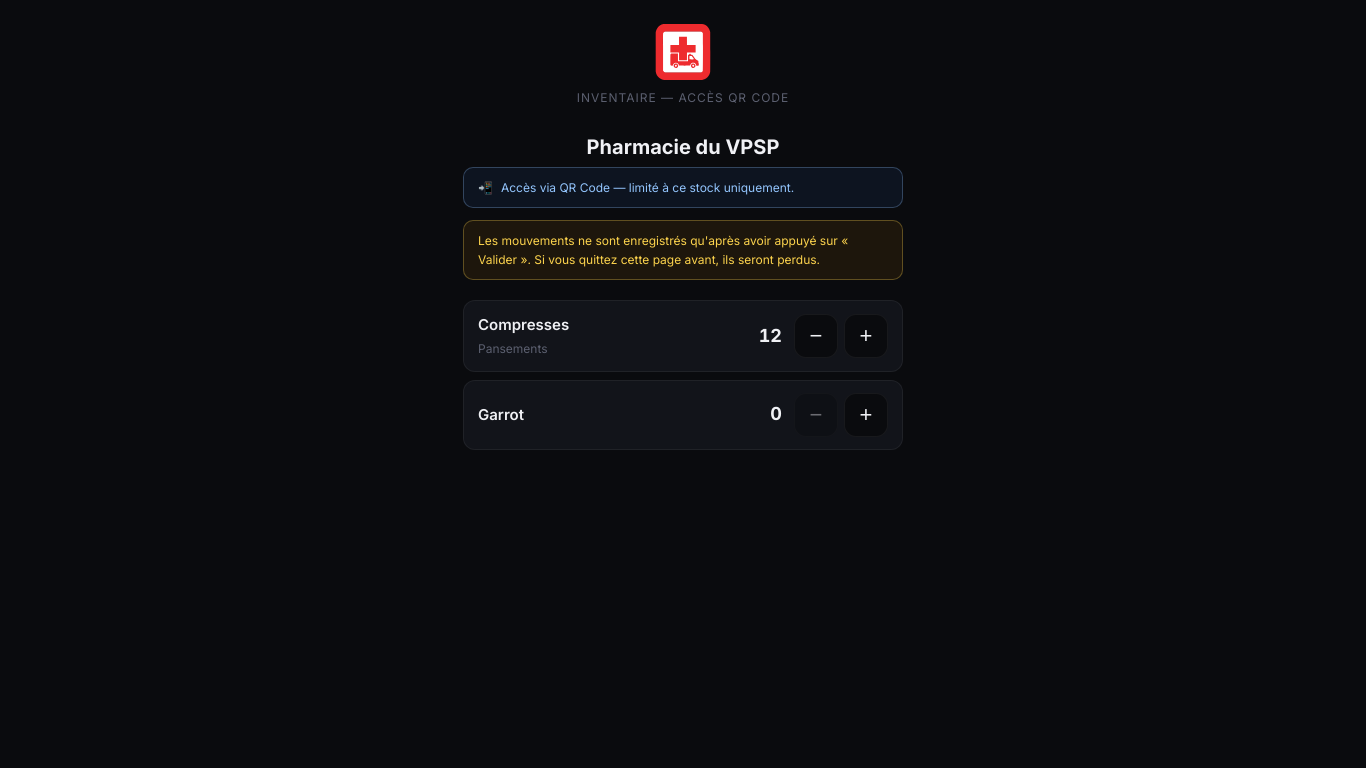
it: QRStockPage › affiche le delta en attente sur la ligne cliquée, et le retire à l'annulation
Expected: the heading "Pharmacie du VPSP" is shown, x1=587 y1=135 x2=779 y2=159
Click the button named "Retirer une unité de Compresses" at (816, 336), box x1=794 y1=314 x2=838 y2=358
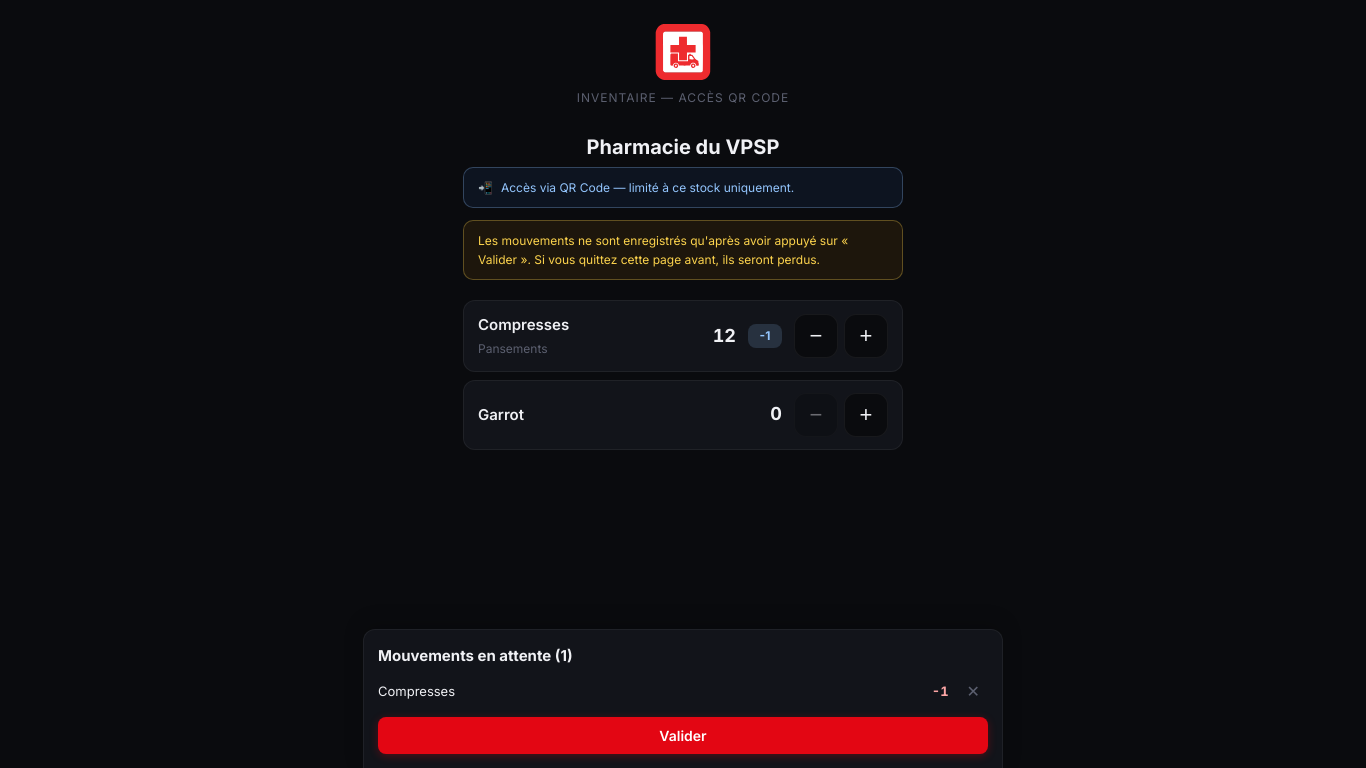
Expected: the text with test id "pending-item-1" reads "-1", x1=760 y1=328 x2=770 y2=343
Click the button named "Retirer une unité de Compresses" at (816, 336), box x1=794 y1=314 x2=838 y2=358
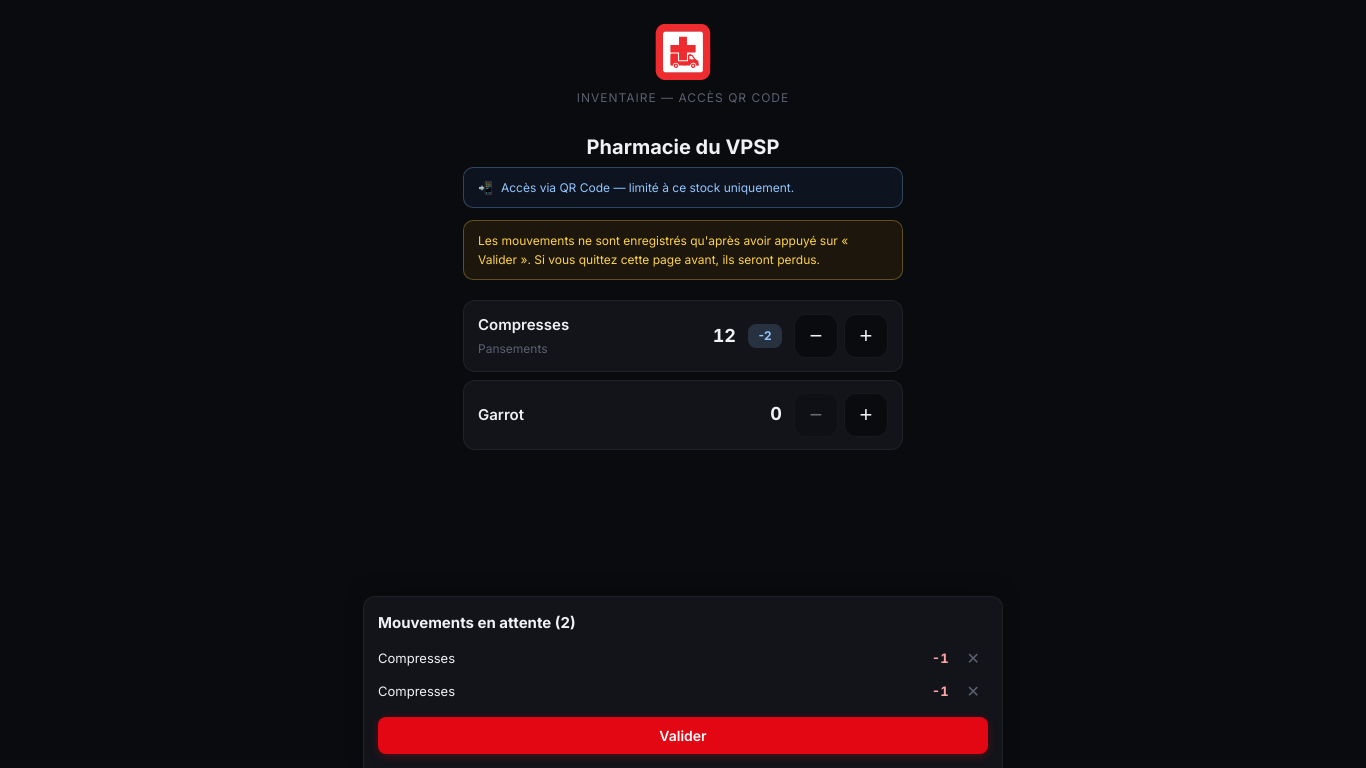
Expected: the text with test id "pending-item-1" reads "-2", x1=758 y1=328 x2=771 y2=343
Click the button named "Ajouter une unité de Compresses" at (866, 336), box x1=844 y1=314 x2=888 y2=358
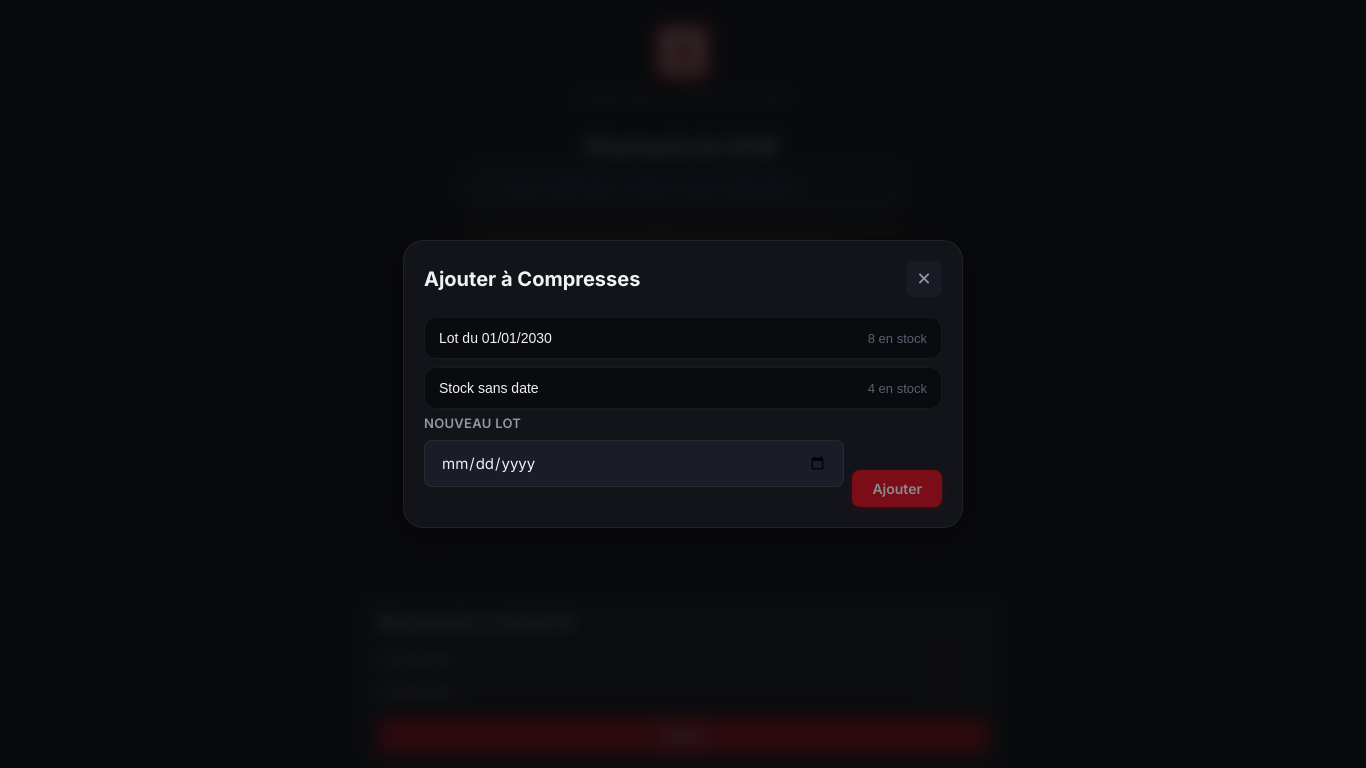
Click the text "Stock sans date" at (489, 388), box x1=439 y1=380 x2=539 y2=396
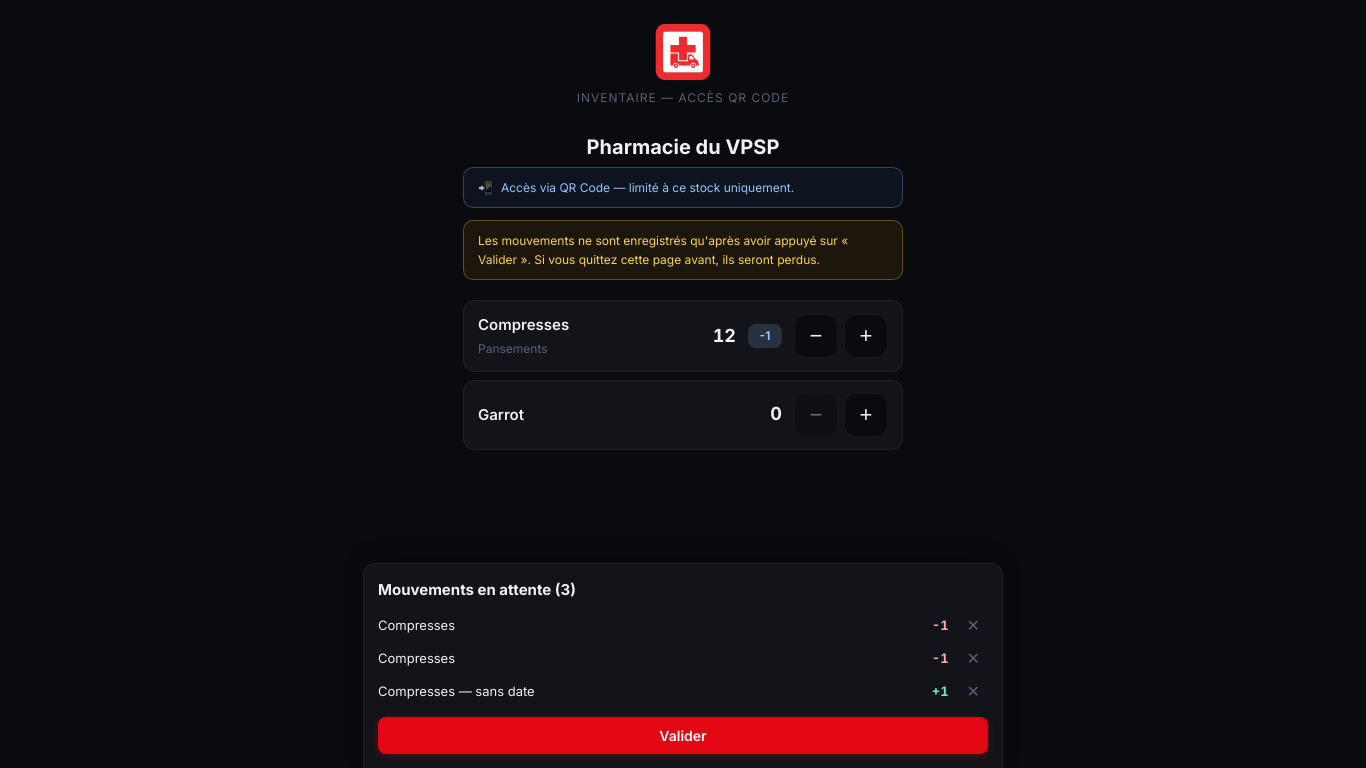
Click the button named "Ajouter une unité de Compresses" at (866, 336), box x1=844 y1=314 x2=888 y2=358
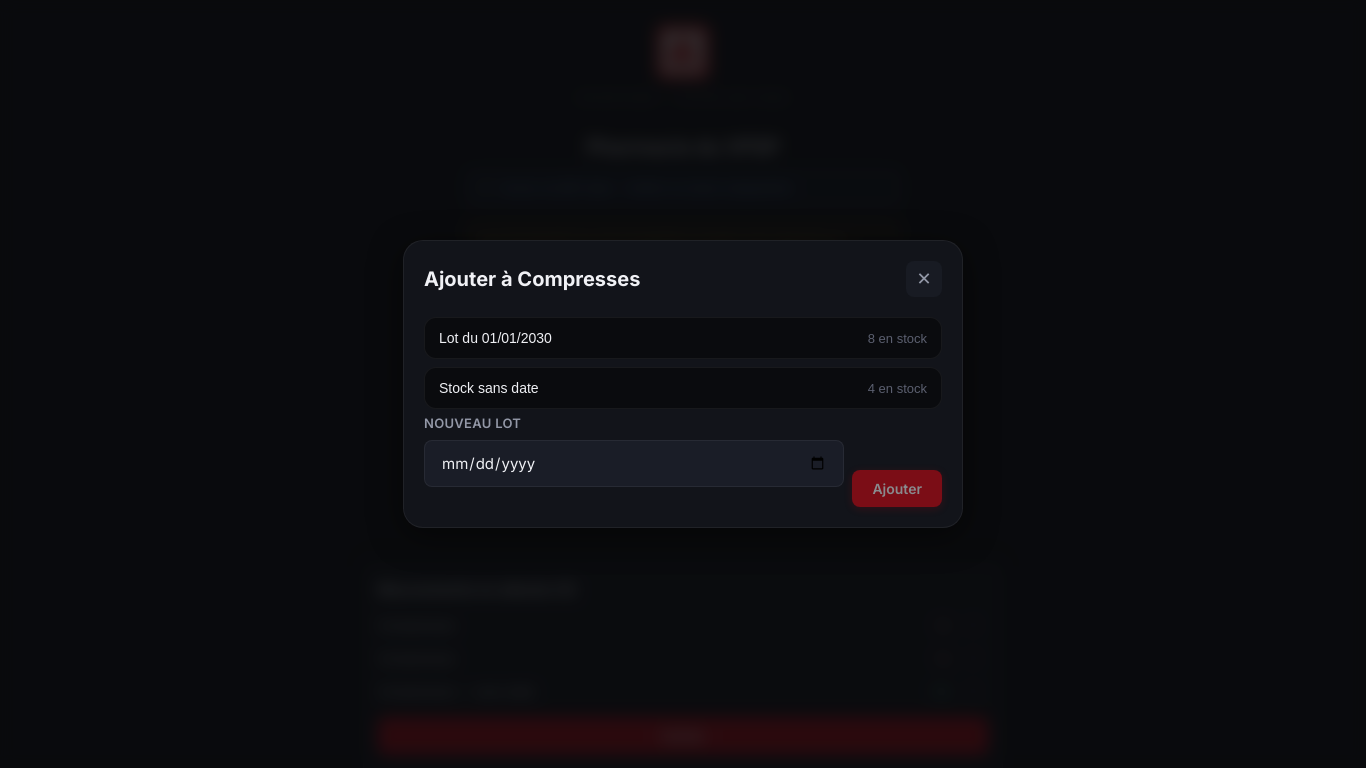
Click the text "Stock sans date" at (489, 388), box x1=439 y1=380 x2=539 y2=396
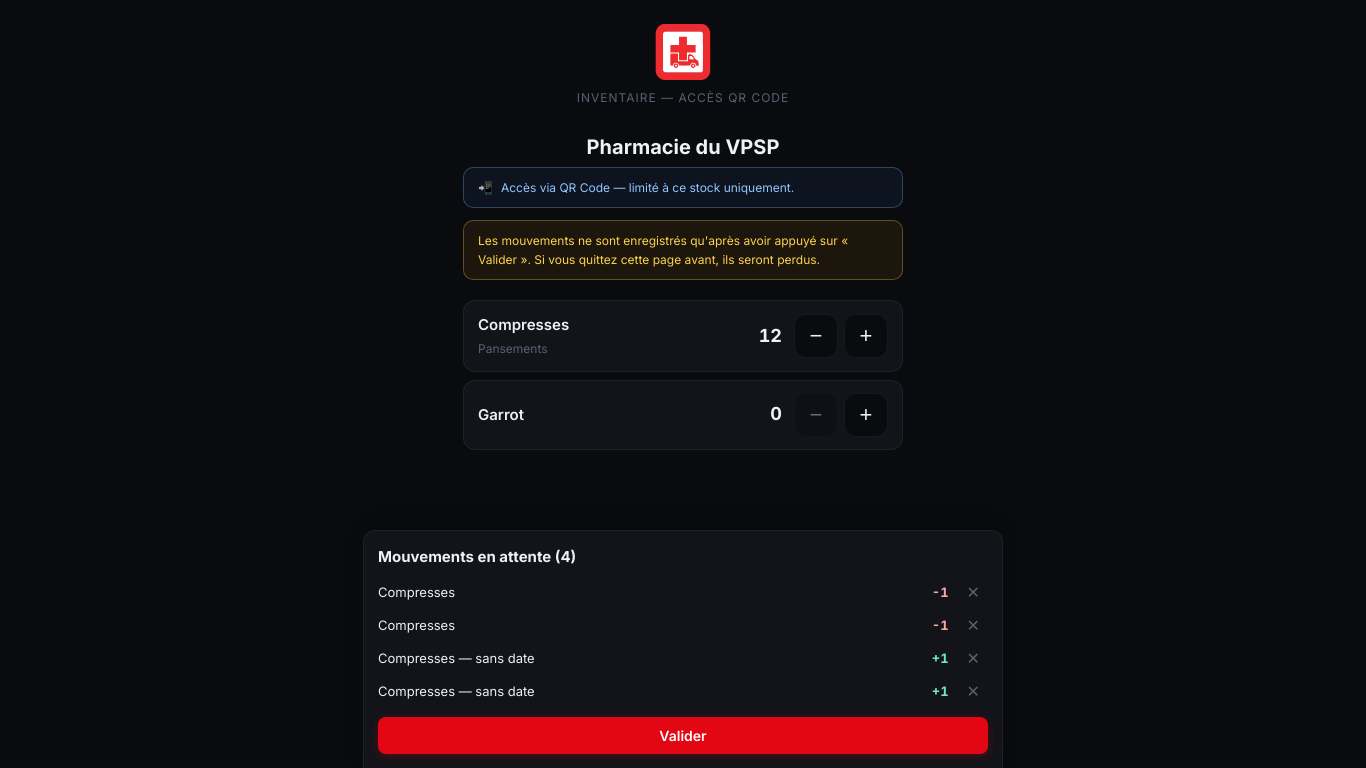
Expected: the text with test id "pending-item-1" is gone
